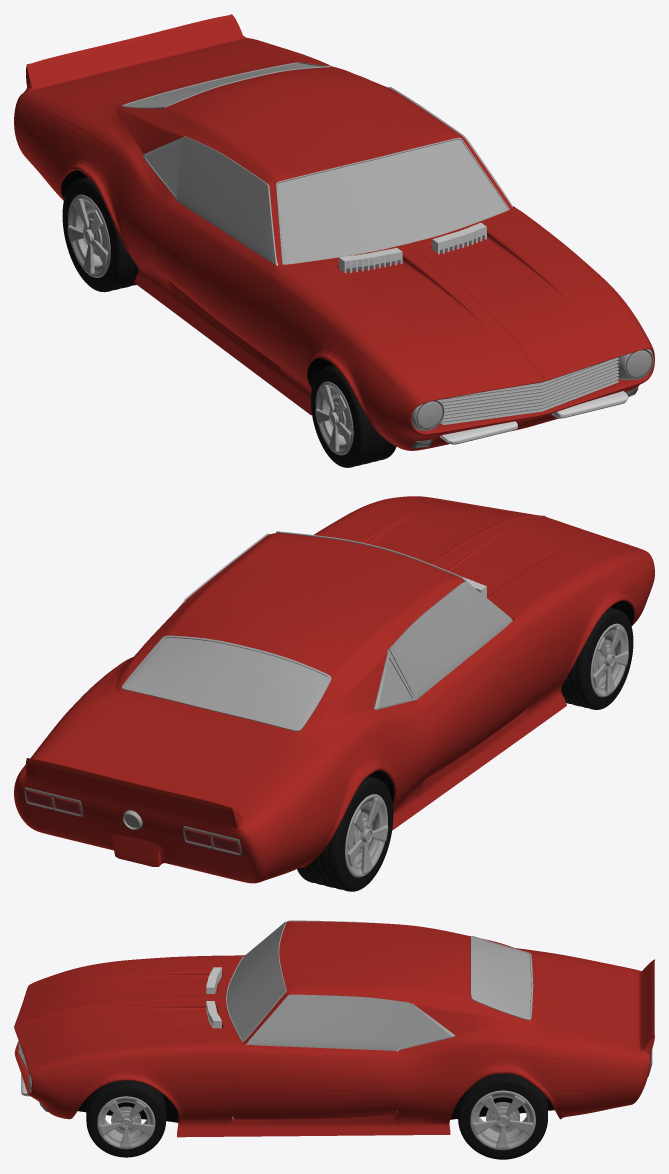
Rendered from Chevrolet_Camaro_SS_High.obj.
3 renders of one model, top to bottom at view 1: azimuth 30°, elevation 25°; view 2: azimuth 150°, elevation 25°; view 3: azimuth 270°, elevation 25°, orthographic. The views are drawn at different scales.
Visible parts, largest first — view 1: Carroceria_Plano, Parabrisas_Ad_Plano.005, Pueratas_Plano.008, Ventana_1_Plano.013, Rejilla_Plano.002, Ruedas_Ad_Círculo.004, Ruedas_Tr_Círculo.005, Rin_1_Tr_Plano.018, Cubo, Rin_1_Ad_Plano.017, Plano.002_Plano.019, Parabrisas_Tr_Plano.015 (+5 smaller); view 2: Carroceria_Plano, Parabrisas_Tr_Plano.015, Pueratas_Plano.008, Ventana_1_Plano.013, Ruedas_Tr_Círculo.005, Ruedas_Ad_Círculo.004, Rin_1_Tr_Plano.018, Luz_Tr_Plano.021, Rin_1_Ad_Plano.017, Marco_Parabrisad_Tr_Plano.016, Ventana_2_Plano.010; view 3: Carroceria_Plano, Pueratas_Plano.008, Ventana_1_Plano.013, Parabrisas_Ad_Plano.005, Parabrisas_Tr_Plano.015, Ruedas_Tr_Círculo.005, Ruedas_Ad_Círculo.004, Rin_1_Tr_Plano.018, Rin_1_Ad_Plano.017, Ventana_2_Plano.010, Cubo, Marco_Parabrisad_Tr_Plano.016 (+2 smaller).
Part boxes in pixels (x1,y1,x2,y2): Carroceria_Plano: (14,14,654,450); Parabrisas_Ad_Plano.005: (277,139,507,263); Pueratas_Plano.008: (157,201,518,365); Ventana_1_Plano.013: (176,87,512,265); Rejilla_Plano.002: (441,357,618,424); Ruedas_Ad_Círculo.004: (310,365,396,467); Ruedas_Tr_Círculo.005: (62,177,138,292); Rin_1_Tr_Plano.018: (67,194,110,277); Cubo: (339,222,486,273); Rin_1_Ad_Plano.017: (315,381,353,455); Plano.002_Plano.019: (440,391,628,444); Parabrisas_Tr_Plano.015: (125,63,320,106); Carroceria_Plano: (14,496,654,883); Parabrisas_Tr_Plano.015: (124,637,328,728); Pueratas_Plano.008: (415,620,539,778); Ventana_1_Plano.013: (184,533,512,700); Ruedas_Tr_Círculo.005: (297,776,393,891); Ruedas_Ad_Círculo.004: (561,607,633,709); Rin_1_Tr_Plano.018: (345,794,388,877); Luz_Tr_Plano.021: (24,787,241,855); Rin_1_Ad_Plano.017: (590,623,628,697); Marco_Parabrisad_Tr_Plano.016: (122,635,331,731); Ventana_2_Plano.010: (378,658,411,707); Carroceria_Plano: (14,921,654,1137); Pueratas_Plano.008: (230,955,397,1119); Ventana_1_Plano.013: (246,920,411,1050); Parabrisas_Ad_Plano.005: (227,923,285,1041); Parabrisas_Tr_Plano.015: (472,937,531,1018); Ruedas_Tr_Círculo.005: (458,1073,547,1159); Ruedas_Ad_Círculo.004: (86,1080,165,1157); Rin_1_Tr_Plano.018: (470,1090,535,1150); Rin_1_Ad_Plano.017: (97,1096,155,1149); Ventana_2_Plano.010: (401,1008,450,1047); Cubo: (206,967,221,1028); Marco_Parabrisad_Tr_Plano.016: (470,936,533,1020).
Size of the model in its own units: 3.91 by 2.66 by 9.82.
